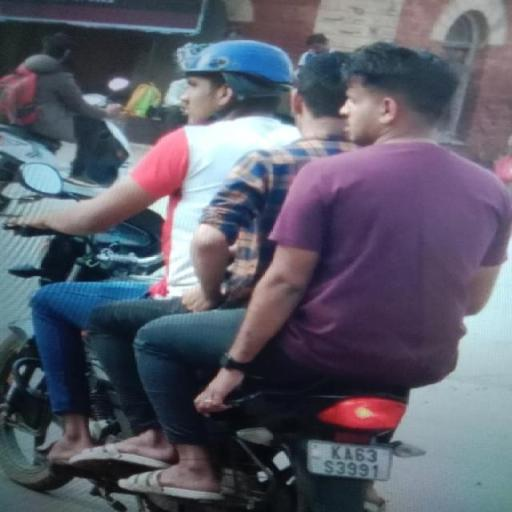tripple riding: (13, 34, 512, 387)
